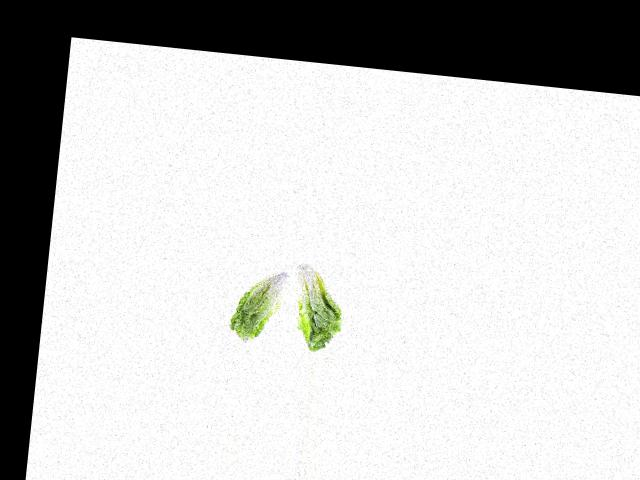lettuce: (226, 257, 291, 344)
